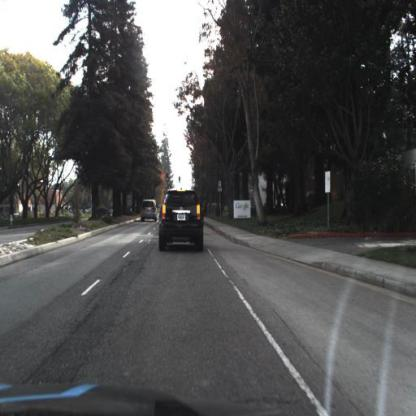car: (157, 188, 206, 254), (139, 199, 160, 226)
